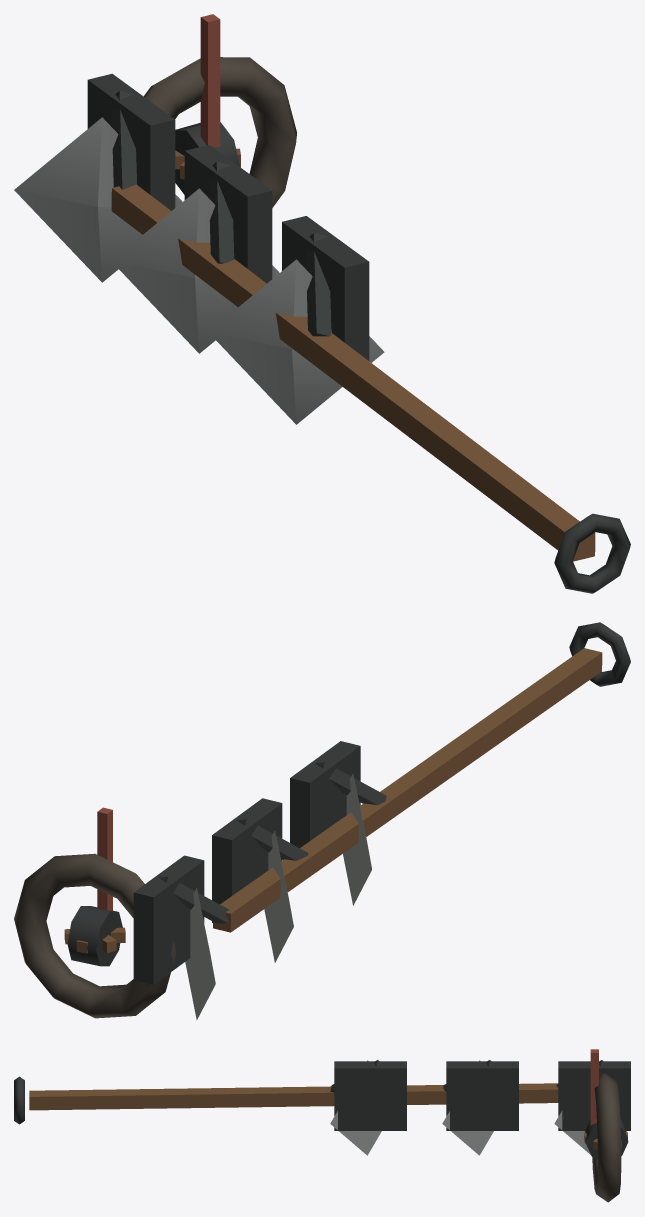
Rendered from Plow.glb.
3 renders of one model, top to bottom at view 1: azimuth 30°, elevation 25°; view 2: azimuth 150°, elevation 25°; view 3: azimuth 270°, elevation 25°, orthographic. The views are drawn at different scales.
Parts seen in each view (by area): view 1: plow-static-plow-steel-mat, plow-static-plow-iron-mat, plow-static-plow-timber-mat, plow-static-plow-wheel-mat, plow-static-plow-accent-mat; view 2: plow-static-plow-iron-mat, plow-static-plow-timber-mat, plow-static-plow-wheel-mat, plow-static-plow-steel-mat, plow-static-plow-accent-mat; view 3: plow-static-plow-iron-mat, plow-static-plow-timber-mat, plow-static-plow-wheel-mat, plow-static-plow-steel-mat, plow-static-plow-accent-mat.
Boxes of the visible parts, x1=… form: plow-static-plow-steel-mat: x1=14, y1=117, x2=384, y2=424; plow-static-plow-iron-mat: x1=87, y1=73, x2=630, y2=593; plow-static-plow-timber-mat: x1=111, y1=148, x2=595, y2=561; plow-static-plow-wheel-mat: x1=144, y1=57, x2=296, y2=207; plow-static-plow-accent-mat: x1=200, y1=14, x2=220, y2=147; plow-static-plow-iron-mat: x1=67, y1=622, x2=630, y2=984; plow-static-plow-timber-mat: x1=64, y1=648, x2=602, y2=953; plow-static-plow-wheel-mat: x1=14, y1=853, x2=176, y2=1018; plow-static-plow-steel-mat: x1=185, y1=773, x2=371, y2=1020; plow-static-plow-accent-mat: x1=97, y1=807, x2=112, y2=910; plow-static-plow-iron-mat: x1=14, y1=1060, x2=630, y2=1158; plow-static-plow-timber-mat: x1=29, y1=1083, x2=627, y2=1149; plow-static-plow-wheel-mat: x1=592, y1=1073, x2=621, y2=1202; plow-static-plow-steel-mat: x1=330, y1=1060, x2=590, y2=1155; plow-static-plow-accent-mat: x1=590, y1=1049, x2=598, y2=1125.
Bounding box in the file's own units: 1.08 × 0.97 × 3.74.
